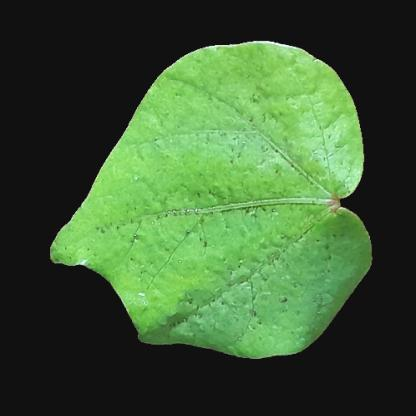healthy: (152, 104, 340, 288), (163, 288, 315, 341), (98, 164, 150, 268)
